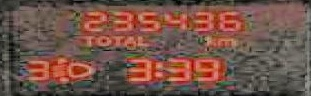2: (82, 10, 106, 31)
3: (124, 57, 149, 82), (166, 56, 189, 81), (24, 57, 46, 81), (108, 10, 131, 31), (193, 10, 211, 31)
4: (162, 10, 186, 30)
5: (137, 10, 160, 31)
6: (215, 10, 240, 31)
9: (193, 57, 218, 79)
X: (93, 33, 109, 47), (151, 59, 162, 78), (202, 32, 215, 46), (135, 33, 149, 46), (216, 36, 234, 46), (80, 33, 93, 46), (111, 33, 122, 46), (122, 35, 133, 46)
